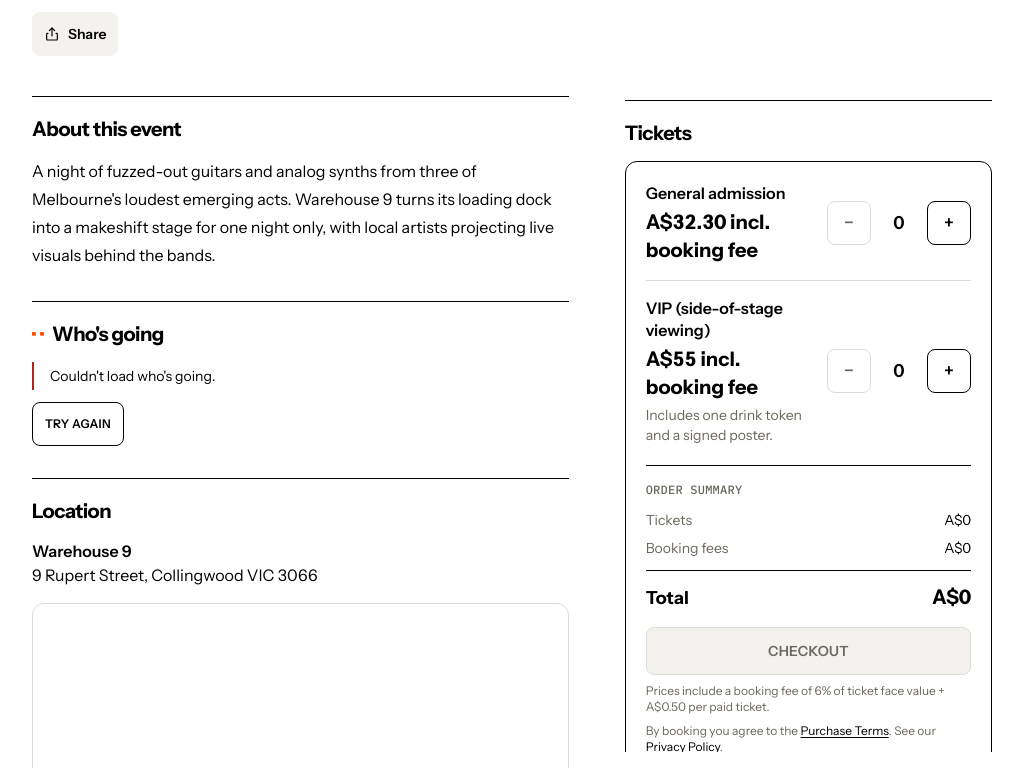
it: Who's Going — loading and errors › shows and announces a load error, and Try again reloads
(page scrolled)
Check: the text "Couldn't load who's going." is shown, box left=32, top=362, right=216, bottom=390
Click the button "Try again": (78, 424) left=32, top=402, right=124, bottom=446
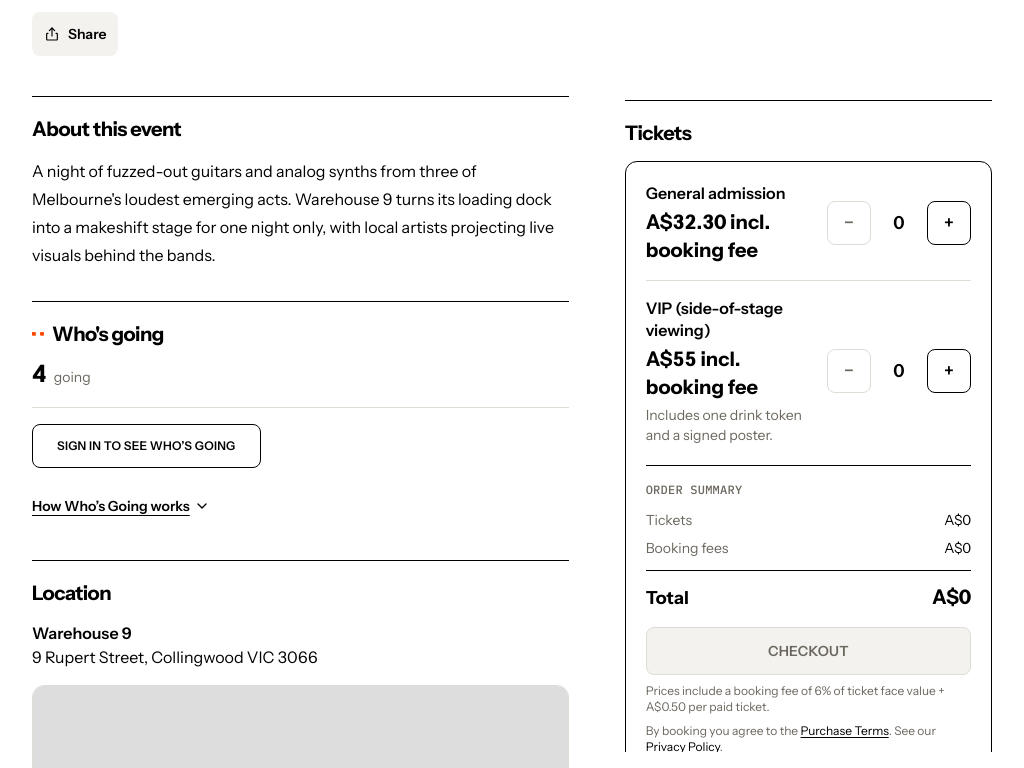
Check: the text "4" reads "4 going", box left=32, top=362, right=91, bottom=387
